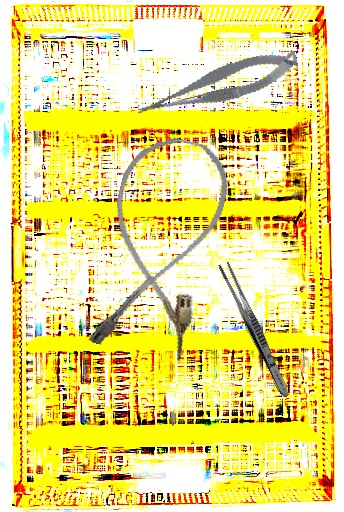Cannula: (82, 127, 237, 366)
Dressing Forceps: (215, 260, 294, 400)
Micro Scissor: (131, 45, 303, 123)
